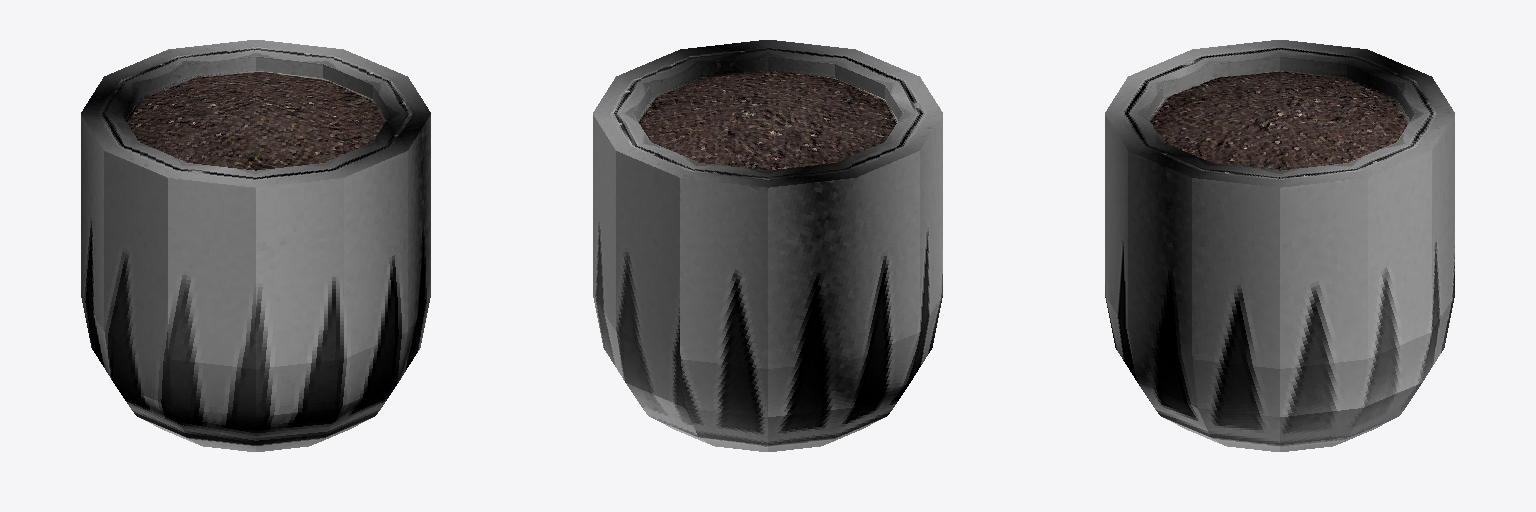
The picture shows the model from 3 angles: view 1: azimuth 30°, elevation 25°; view 2: azimuth 150°, elevation 25°; view 3: azimuth 270°, elevation 25°; orthographic projection.
Visible parts, largest first — view 1: huapen; view 2: huapen; view 3: huapen.
Part boxes in pixels (bbox=[...]): huapen: bbox=[81, 40, 430, 451]; huapen: bbox=[593, 40, 942, 451]; huapen: bbox=[1105, 40, 1454, 451].
Size of the model in its own units: 18.01 by 17.08 by 18.01.
Materials: 1 (1 with a texture image).